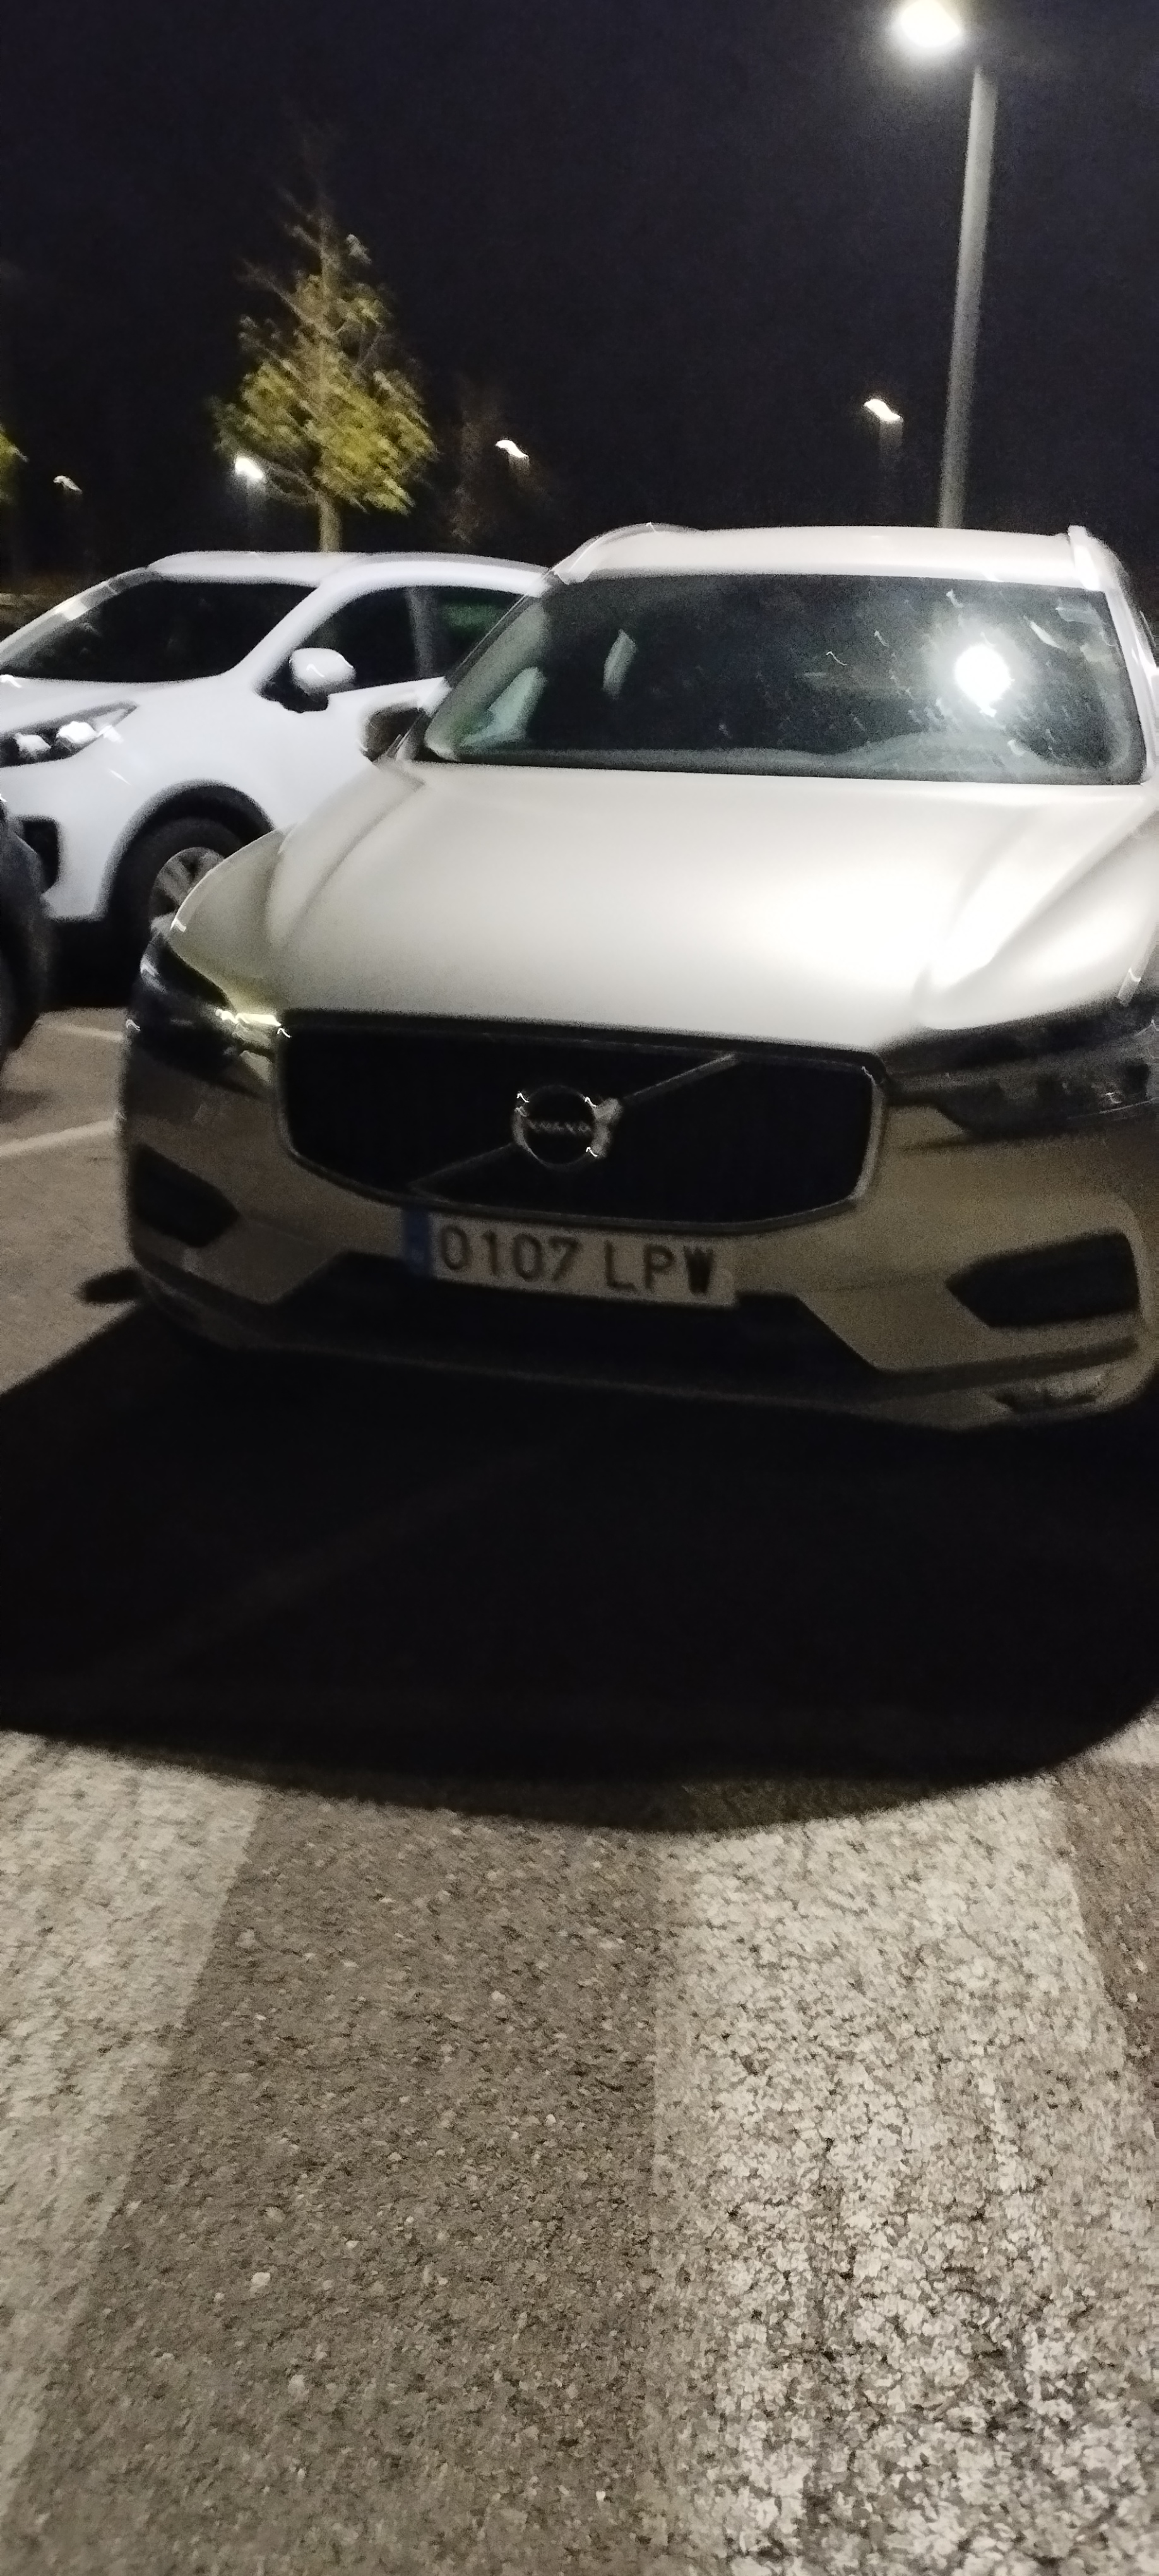Plate: (399, 1212, 749, 1278)
